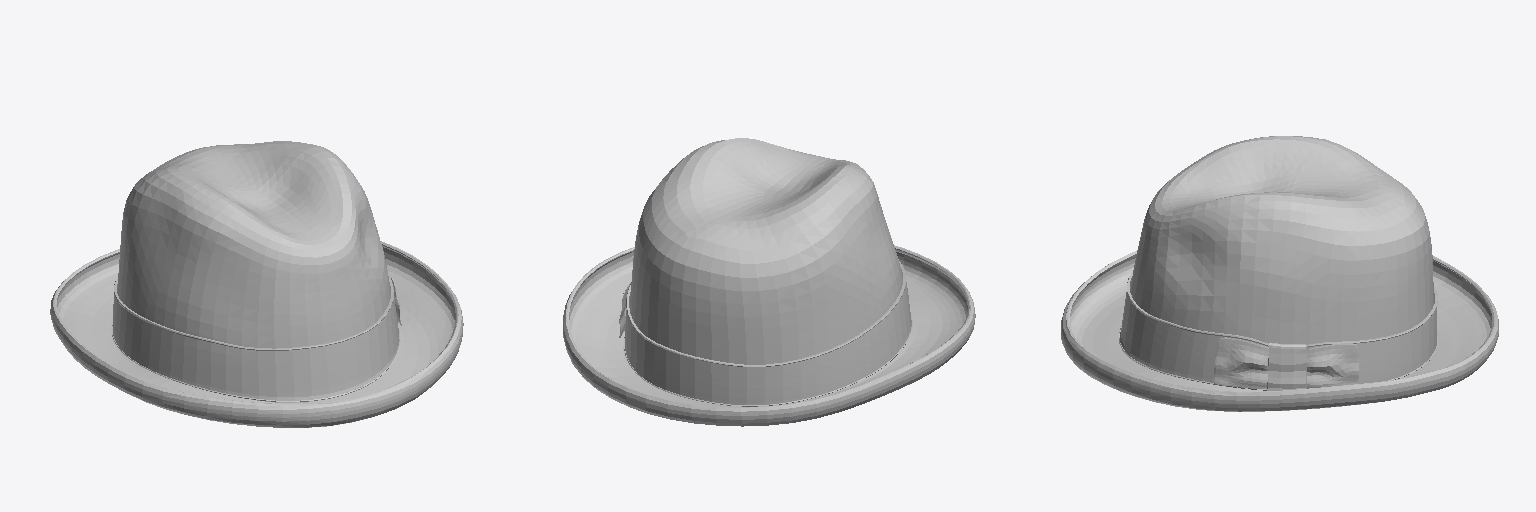
The model's file is hat01.obj.
3 views of the same model, side by side, from view 1: azimuth 30°, elevation 25°; view 2: azimuth 150°, elevation 25°; view 3: azimuth 270°, elevation 25° (orthographic).
Visible parts, largest first — view 1: homburg_hat; view 2: homburg_hat; view 3: homburg_hat.
Part boxes in pixels (bbox=[...]): homburg_hat: bbox=[50, 141, 463, 427]; homburg_hat: bbox=[563, 138, 975, 426]; homburg_hat: bbox=[1061, 136, 1498, 411].
Bounding box in the file's own units: 29.04 × 14.45 × 31.64.